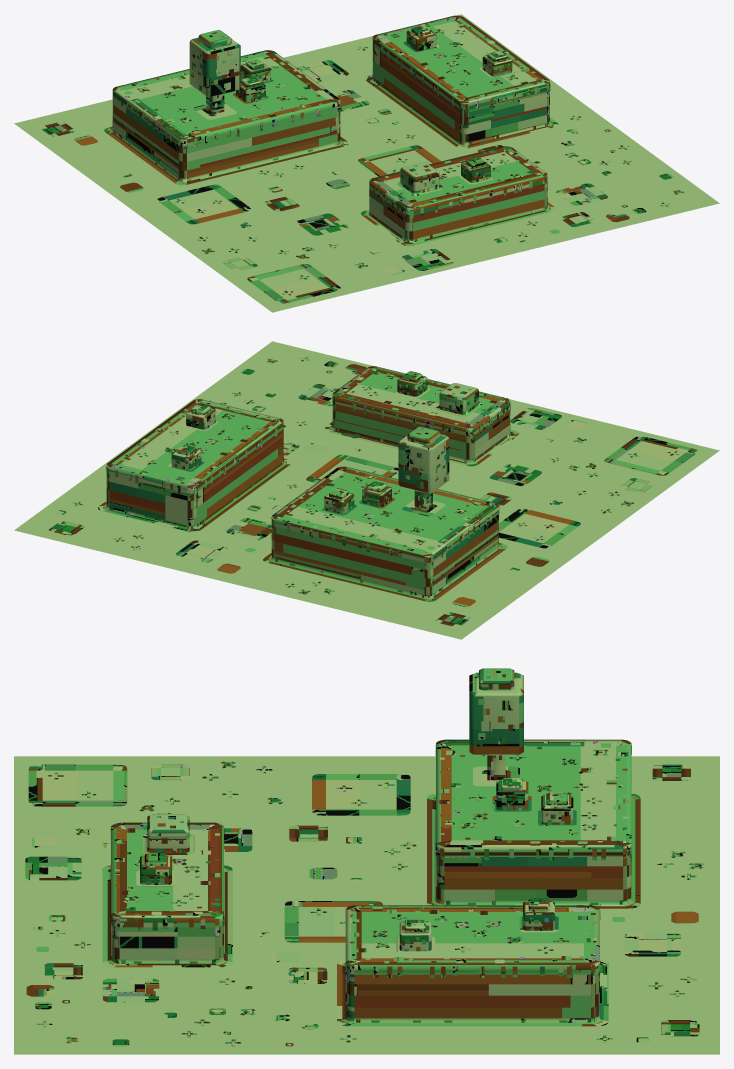
File: C_grass1_08.fbx
3 renders of one model, top to bottom at view 1: azimuth 30°, elevation 25°; view 2: azimuth 150°, elevation 25°; view 3: azimuth 270°, elevation 25°, orthographic. The views are drawn at different scales.
Visible parts, largest first — view 1: C_grass1_08.002; view 2: C_grass1_08.002; view 3: C_grass1_08.002.
Part boxes in pixels (left/top/right/bottom): C_grass1_08.002: left=14, top=14, right=719, bottom=312; C_grass1_08.002: left=14, top=341, right=719, bottom=639; C_grass1_08.002: left=14, top=668, right=719, bottom=1054.
Size of the model in its own units: 50 by 12.64 by 50.
